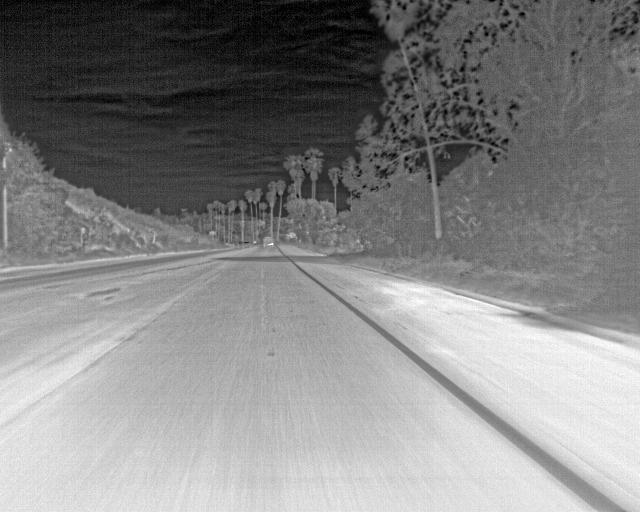car: (260, 236, 275, 248)
